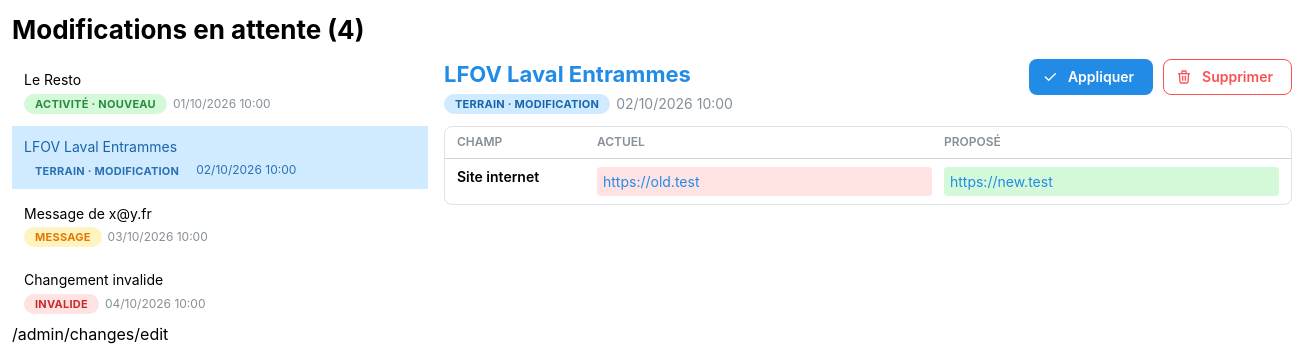
it: AdminChanges › shows only the modified fields and applies the change
Check: the text "https://old.test" is shown, box [597,167,932,196]
Check: the text "https://new.test" is shown, box [944,167,1279,196]
Click the button "Appliquer": coordinates (1091, 77) [1029,59,1153,95]
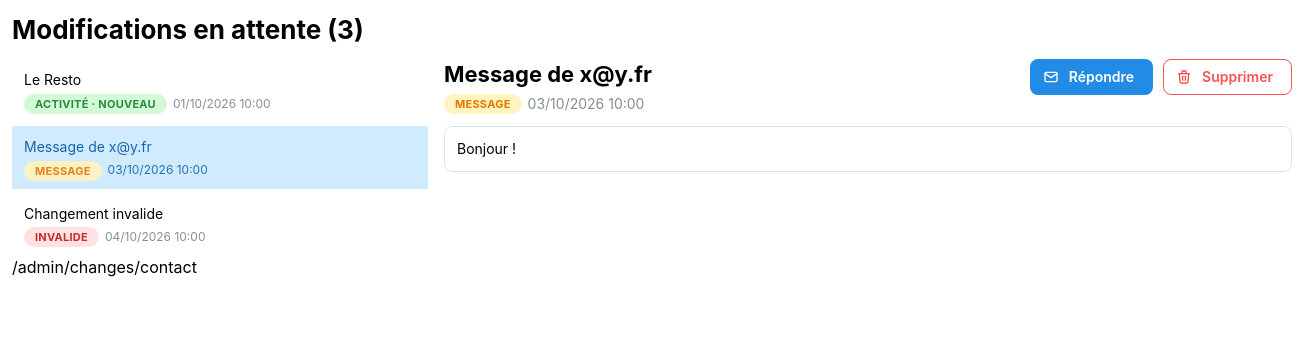
Check: the text with test id "where" reads "/admin/changes/contact", box [12,258,197,278]
Check: the heading "Modifications en attente (3)" is shown, box [12,14,364,45]
